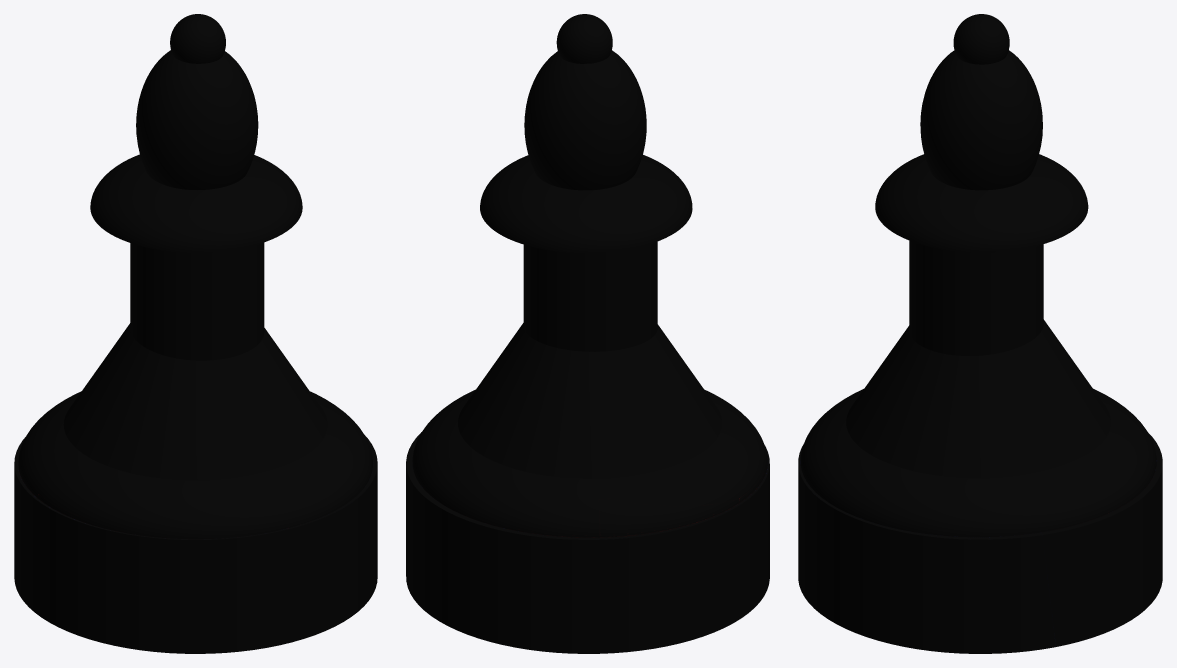
Rendered from bishop.fbx.
3 views of the same model, side by side, from view 1: azimuth 30°, elevation 25°; view 2: azimuth 150°, elevation 25°; view 3: azimuth 270°, elevation 25° (orthographic).
Parts seen in each view (by area): view 1: node_id13, node_id17, node_id15, node_id11, node_id7, node_id9, node_id5; view 2: node_id13, node_id17, node_id15, node_id7, node_id9, node_id11, node_id5; view 3: node_id13, node_id17, node_id15, node_id7, node_id9, node_id11, node_id5.
Boxes of the visible parts, <box> form: node_id13: <box>14,435,377,653</box>; node_id17: <box>63,323,327,480</box>; node_id15: <box>18,391,372,539</box>; node_id11: <box>130,242,264,360</box>; node_id7: <box>90,154,302,252</box>; node_id9: <box>136,50,258,190</box>; node_id5: <box>170,14,225,63</box>; node_id13: <box>406,432,769,653</box>; node_id17: <box>458,323,722,478</box>; node_id15: <box>412,389,767,537</box>; node_id7: <box>480,155,692,252</box>; node_id9: <box>524,50,646,190</box>; node_id11: <box>523,241,657,351</box>; node_id5: <box>556,14,612,63</box>; node_id13: <box>798,432,1162,653</box>; node_id17: <box>846,319,1110,478</box>; node_id15: <box>800,388,1156,537</box>; node_id7: <box>875,154,1088,252</box>; node_id9: <box>920,50,1042,190</box>; node_id11: <box>909,240,1043,355</box>; node_id5: <box>953,14,1009,64</box>.
Size of the model in its own units: 0.3011 by 0.512 by 0.3011.
Materials: 7 (7 with a texture image).
